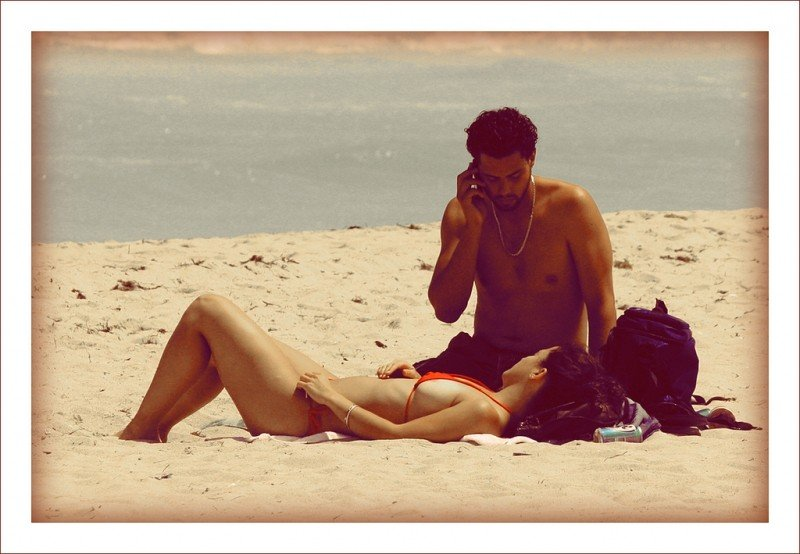phone: (454, 164, 486, 211)
talk: (449, 150, 536, 218)
